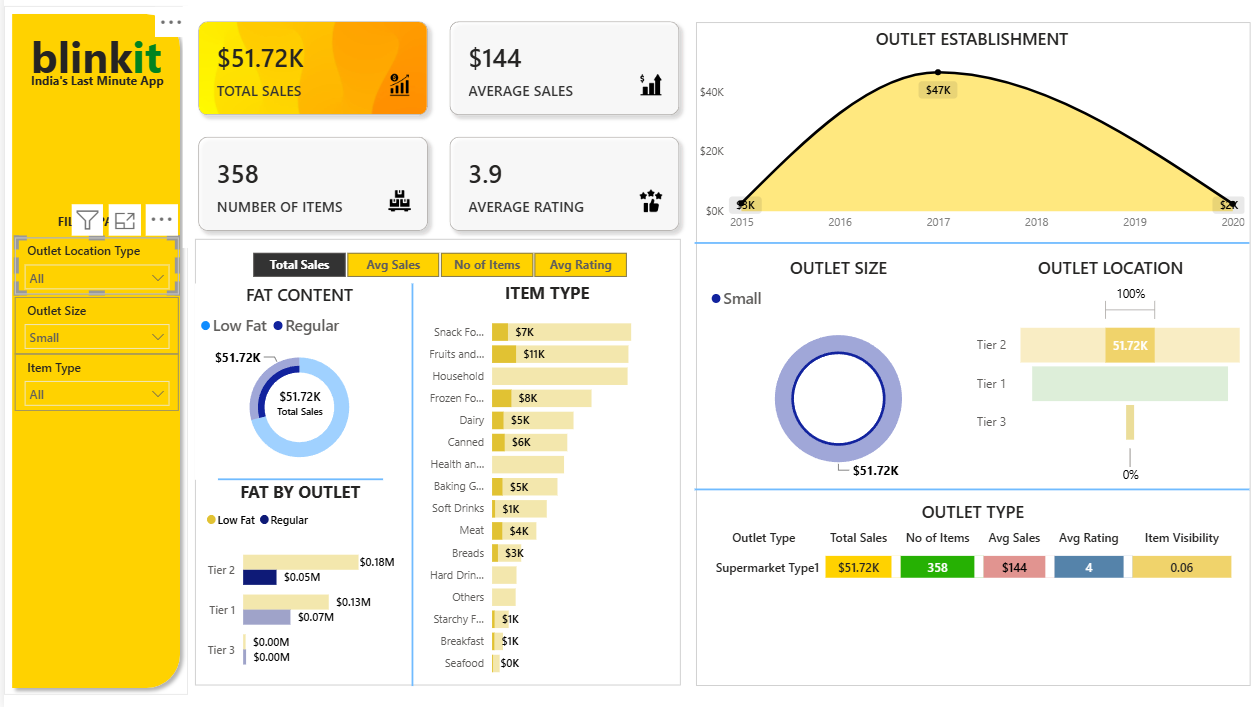

What the dashboard file says about the page in this screenshot:
{"tool":"powerbi","page":{"name":"Page 1","canvas":[1400,800],"ordinal":0},"visuals":[{"type":"shape","box":[0,15.9,205,768.5],"z":0},{"type":"textbox","box":[7.9,34.4,190.5,79.4],"z":1000},{"type":"textbox","box":[15.9,86,174.6,27.8],"z":2000},{"type":"cardVisual","fields":{"Data":["BlinkIT Grocery Data.Total Sales","BlinkIT Grocery Data.Avg Sales","BlinkIT Grocery Data.No of Items","BlinkIT Grocery Data.Avg Rating"]},"box":[198.4,15.9,570.1,269.8],"z":3000},{"type":"shape","box":[213,276.5,541,497.4],"z":4000},{"type":"donutChart","title":"FAT CONTENT","fields":{"Y":["BlinkIT Grocery Data.Total Sales"],"Category":["BlinkIT Grocery Data.Item Fat Content"]},"box":[213,325.4,232.8,218.3],"z":5000},{"type":"slicer","fields":{"Values":["Metrics.Metrics"]},"box":[251.3,285.7,465.6,39.7],"z":6000},{"type":"cardVisual","fields":{"Data":["BlinkIT Grocery Data.Total Sales"]},"box":[284.4,425.9,89.9,59.5],"z":7000},{"type":"clusteredBarChart","title":"FAT BY OUTLET","fields":{"Y":["BlinkIT Grocery Data.Total Sales"],"Category":["BlinkIT Grocery Data.Outlet Location Type"],"Series":["BlinkIT Grocery Data.Item Fat Content"]},"box":[220.9,543.7,219.6,230.2],"z":8000},{"type":"shape","box":[238.1,533.1,183.9,19.8],"z":9000},{"type":"shape","box":[445.8,325.4,17.2,448.4],"z":10000},{"type":"barChart","title":"ITEM TYPE","fields":{"Y":["BlinkIT Grocery Data.Total Sales"],"Category":["BlinkIT Grocery Data.Item Type"]},"box":[455,322.8,298.9,451.1],"z":11000},{"type":"shape","box":[769.8,34.4,617.7,739.4],"z":12000},{"type":"lineChart","title":"OUTLET ESTABLISHMENT","fields":{"Y":["BlinkIT Grocery Data.Total Sales"],"Category":["BlinkIT Grocery Data.Outlet Establishment Year"]},"box":[768.5,41,617.7,235.5],"z":13000},{"type":"shape","box":[768.5,276.5,617.7,9.3],"z":14000},{"type":"donutChart","title":"OUTLET SIZE","fields":{"Y":["BlinkIT Grocery Data.Total Sales"],"Category":["BlinkIT Grocery Data.Outlet Size"]},"box":[781.8,295,296.3,259.3],"z":15000},{"type":"funnel","title":"OUTLET LOCATION","fields":{"Y":["Sum(BlinkIT Grocery Data.Sales)"],"Category":["BlinkIT Grocery Data.Outlet Location Type"]},"box":[1078,295,308.2,259.3],"z":16000},{"type":"shape","box":[768.5,550.3,617.7,9.3],"z":17000},{"type":"pivotTable","title":"OUTLET TYPE","fields":{"Rows":["BlinkIT Grocery Data.Outlet Type"],"Values":["BlinkIT Grocery Data.Total Sales","BlinkIT Grocery Data.No of Items","BlinkIT Grocery Data.Avg Sales","BlinkIT Grocery Data.Avg Rating","Avg(BlinkIT Grocery Data.Item Visibility)"]},"box":[783.1,567.5,592.6,203.7],"z":18000},{"type":"slicer","fields":{"Values":["BlinkIT Grocery Data.Outlet Location Type"]},"box":[11.9,273.8,182.5,63.5],"z":19000},{"type":"slicer","fields":{"Values":["BlinkIT Grocery Data.Outlet Size"]},"box":[11.9,341.3,182.5,63.5],"z":20000},{"type":"slicer","fields":{"Values":["BlinkIT Grocery Data.Item Type"]},"box":[11.9,404.8,182.5,63.5],"z":21000},{"type":"textbox","box":[50.3,243.4,105.8,30.4],"z":22000},{"type":"textbox","box":[43.7,742.1,112.4,31.7],"z":23000}]}

Visuals, with their boxes on the page's 1400x800 design canvas (x1, y1, x2, y2). These are canvas units, not pixel positions in the 1254x707 screenshot, which may show the page scaled, cropped or inside an application window:
shape: [left=0, top=16, right=205, bottom=784]
textbox: [left=8, top=34, right=198, bottom=114]
textbox: [left=16, top=86, right=190, bottom=114]
cardVisual - BlinkIT Grocery Data.Total Sales x BlinkIT Grocery Data.Avg Sales: [left=198, top=16, right=768, bottom=286]
shape: [left=213, top=276, right=754, bottom=774]
"FAT CONTENT" donutChart: [left=213, top=325, right=446, bottom=544]
slicer - Metrics.Metrics: [left=251, top=286, right=717, bottom=325]
cardVisual - BlinkIT Grocery Data.Total Sales: [left=284, top=426, right=374, bottom=485]
"FAT BY OUTLET" clusteredBarChart: [left=221, top=544, right=440, bottom=774]
shape: [left=238, top=533, right=422, bottom=553]
shape: [left=446, top=325, right=463, bottom=774]
"ITEM TYPE" barChart: [left=455, top=323, right=754, bottom=774]
shape: [left=770, top=34, right=1388, bottom=774]
"OUTLET ESTABLISHMENT" lineChart: [left=768, top=41, right=1386, bottom=276]
shape: [left=768, top=276, right=1386, bottom=286]
"OUTLET SIZE" donutChart: [left=782, top=295, right=1078, bottom=554]
"OUTLET LOCATION" funnel: [left=1078, top=295, right=1386, bottom=554]
shape: [left=768, top=550, right=1386, bottom=560]
"OUTLET TYPE" pivotTable: [left=783, top=568, right=1376, bottom=771]
slicer - BlinkIT Grocery Data.Outlet Location Type: [left=12, top=274, right=194, bottom=337]
slicer - BlinkIT Grocery Data.Outlet Size: [left=12, top=341, right=194, bottom=405]
slicer - BlinkIT Grocery Data.Item Type: [left=12, top=405, right=194, bottom=468]
textbox: [left=50, top=243, right=156, bottom=274]
textbox: [left=44, top=742, right=156, bottom=774]
